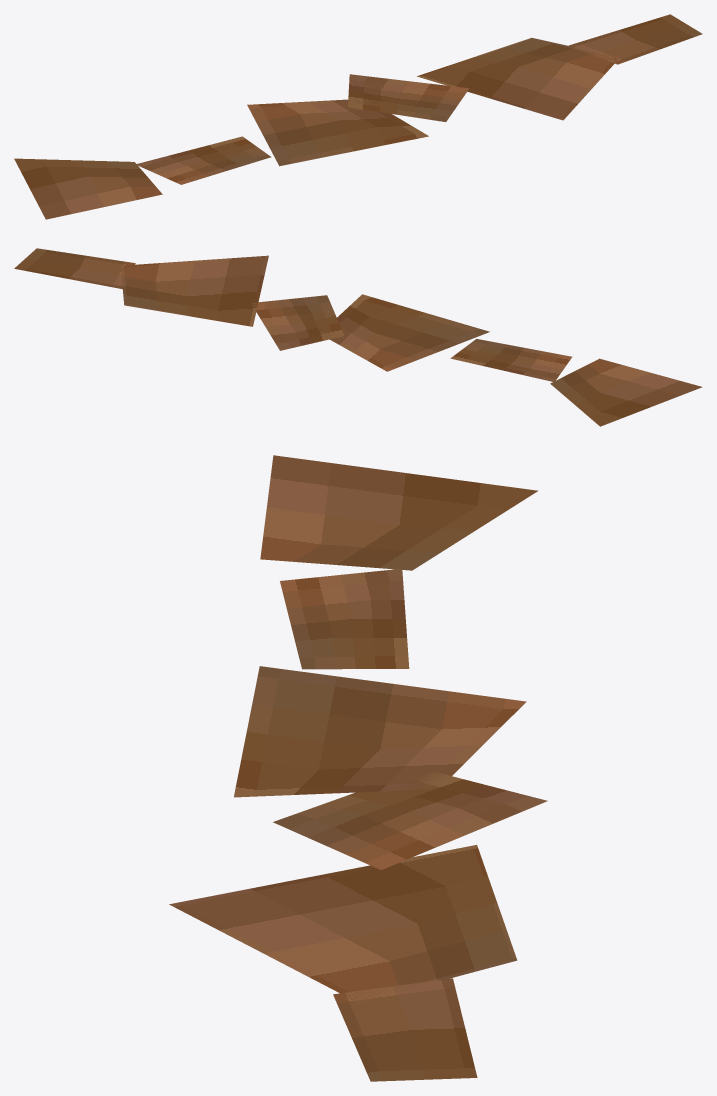
Rendered from pir_m_prp_tnt_group6_market_footprint.fbx.
The picture shows the model from 3 angles, top to bottom: view 1: azimuth 30°, elevation 25°; view 2: azimuth 150°, elevation 25°; view 3: azimuth 270°, elevation 25°; orthographic projection. The views are drawn at different scales.
Visible parts, largest first — view 1: footprint; view 2: footprint; view 3: footprint.
Part boxes in pixels (x1,y1,x2,y2): footprint: (14,14,702,219); footprint: (14,248,702,426); footprint: (169,455,547,1081).
Size of the model in its own units: 5619 by 0.000234 by 1438.
Materials: 1 (1 with a texture image).
